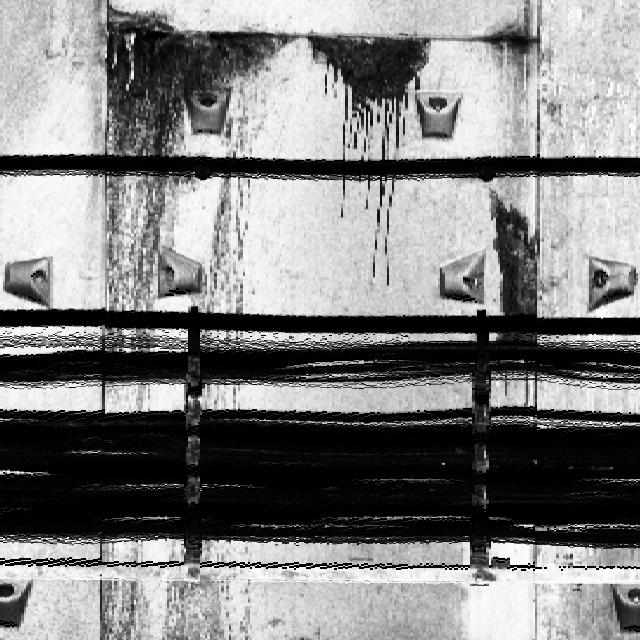leakage: (92, 0, 305, 151), (315, 25, 430, 291), (91, 173, 176, 318), (481, 175, 547, 338), (209, 169, 251, 317), (468, 5, 550, 79)
